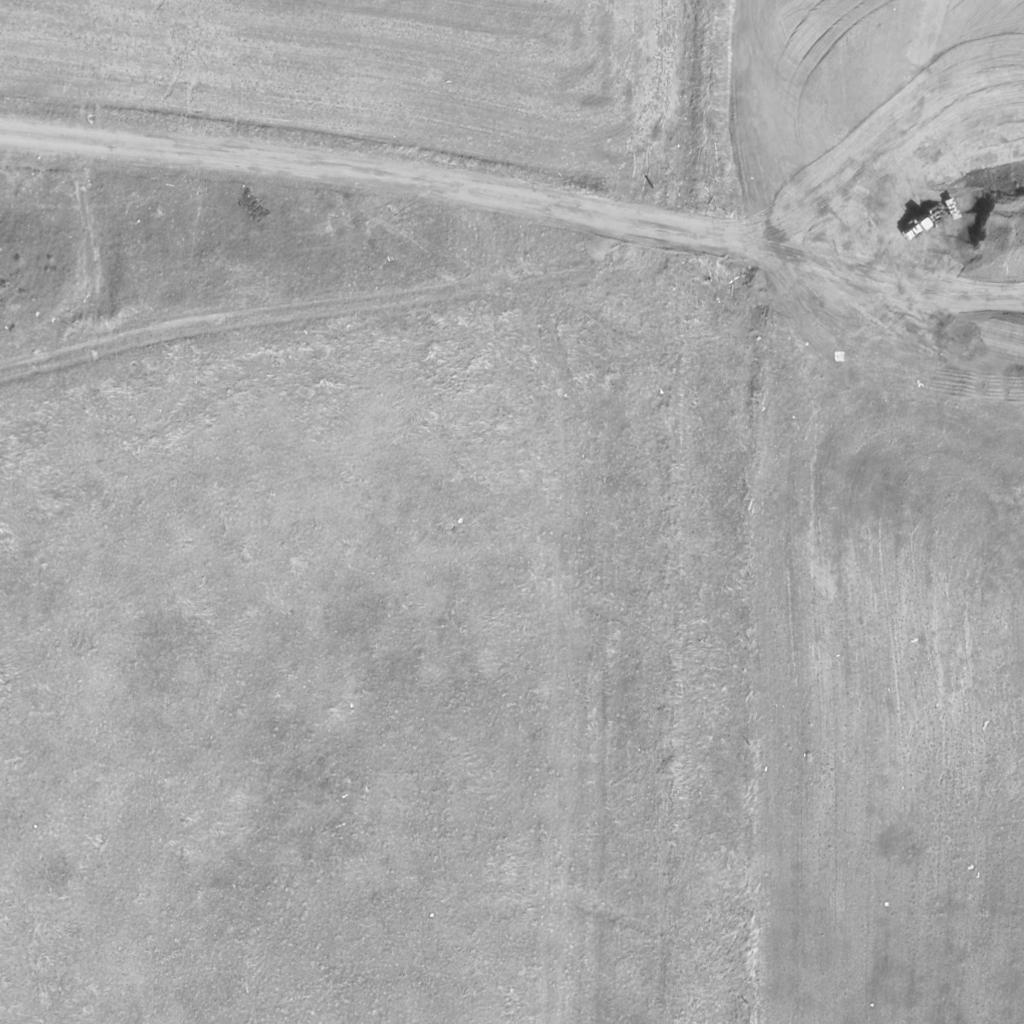vehicle: (898, 198, 962, 246)
